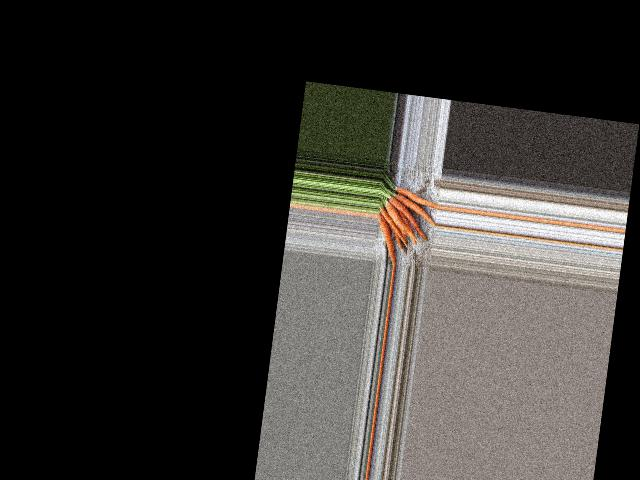carrot: (372, 210, 403, 265)
